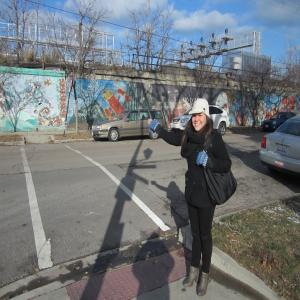Vehicle-registration-plate: (277, 144, 288, 153), (92, 133, 94, 137)
